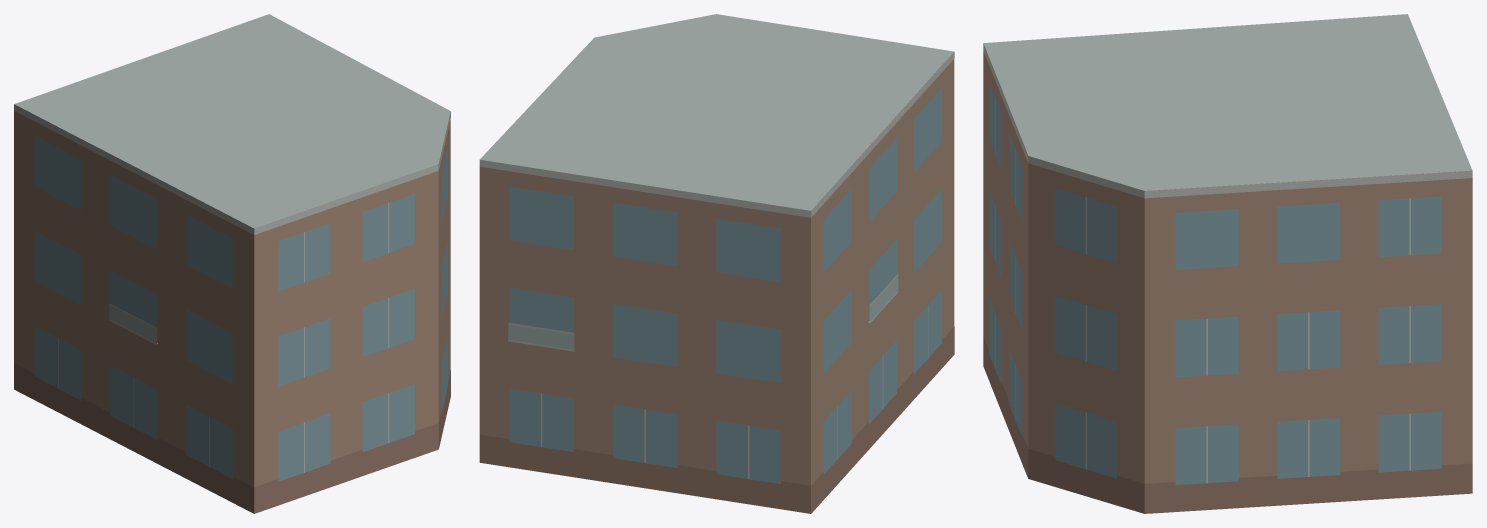
Rendered from survey-upis-32882717.glb.
3 views of the same model, side by side, from view 1: azimuth 30°, elevation 25°; view 2: azimuth 150°, elevation 25°; view 3: azimuth 270°, elevation 25° (orthographic). The views are drawn at different scales.
Parts seen in each view (by area): view 1: survey-upis-32882717.tmp; view 2: survey-upis-32882717.tmp; view 3: survey-upis-32882717.tmp.
Part boxes in pixels (box(x1,y1,x2,y2)): survey-upis-32882717.tmp: box(14, 14, 450, 513); survey-upis-32882717.tmp: box(479, 14, 954, 513); survey-upis-32882717.tmp: box(983, 14, 1472, 513).
Size of the model in its own units: 12.53 by 10.65 by 14.64.
